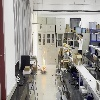fire: (42, 50, 46, 70)
